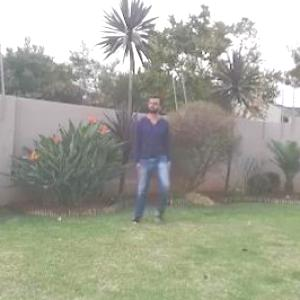follow: (132, 91, 171, 224)
